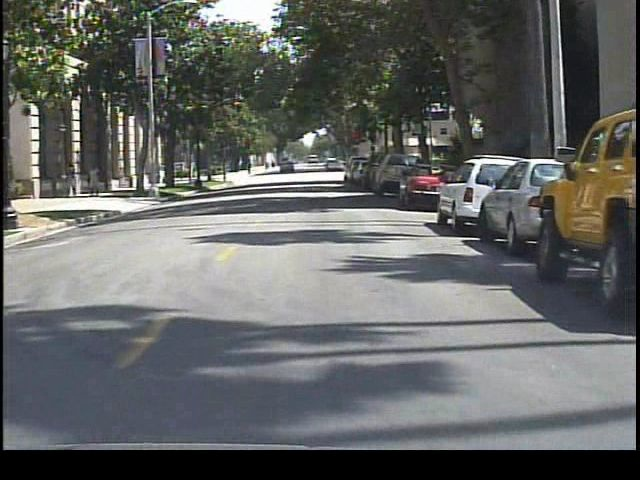person: (86, 160, 109, 199), (63, 157, 83, 199)
